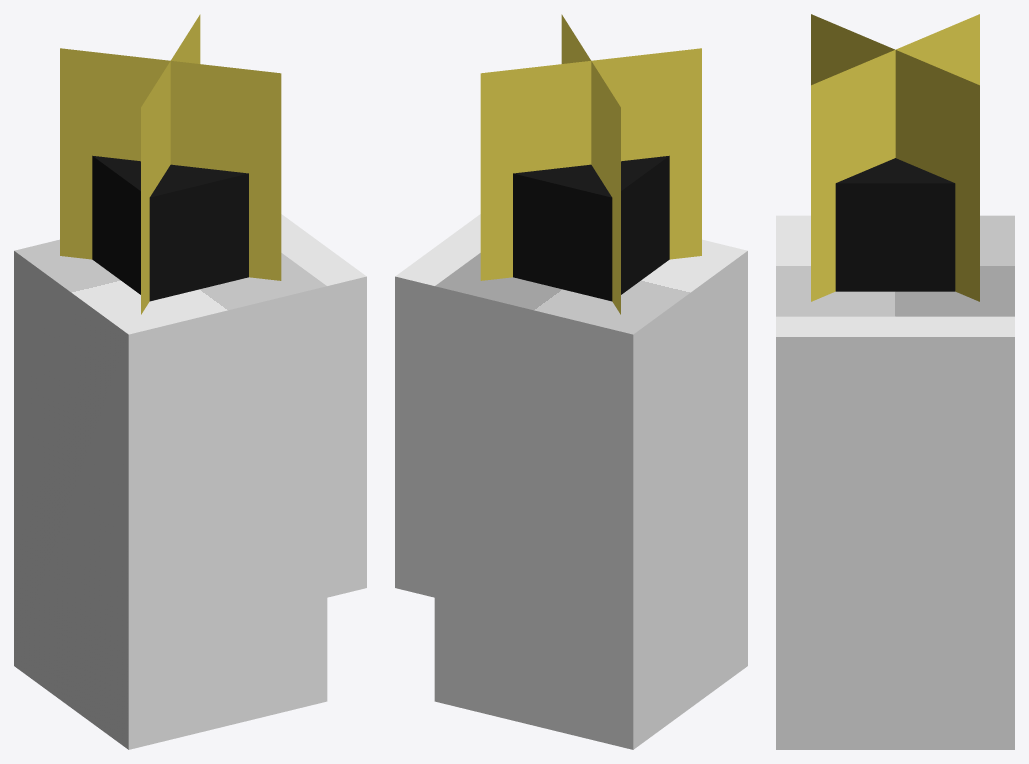
Rendered from Candle.fbx.
3 renders of one model, left to right at view 1: azimuth 30°, elevation 25°; view 2: azimuth 150°, elevation 25°; view 3: azimuth 270°, elevation 25°, orthographic. The views are drawn at different scales.
Parts seen in each view (by area): view 1: cube, cube_2, cube_4, cube_1, cube_3; view 2: cube, cube_3, cube_4, cube_1, cube_2; view 3: cube_1, cube, cube_2, cube_3, cube_4.
Part boxes in pixels (x1,y1,x2,y2): cube: [14, 239, 327, 749]; cube_2: [60, 48, 281, 280]; cube_4: [92, 155, 248, 301]; cube_1: [281, 214, 366, 597]; cube_3: [141, 14, 200, 314]; cube: [434, 239, 747, 749]; cube_3: [480, 48, 701, 280]; cube_4: [513, 155, 669, 301]; cube_1: [395, 214, 480, 597]; cube_2: [561, 14, 620, 314]; cube_1: [776, 316, 1014, 661]; cube: [776, 215, 1014, 749]; cube_2: [811, 14, 979, 301]; cube_3: [811, 14, 979, 301]; cube_4: [835, 158, 955, 291].
Size of the model in its own units: 15 by 37.5 by 12.5.
1 material, 1 textured.
